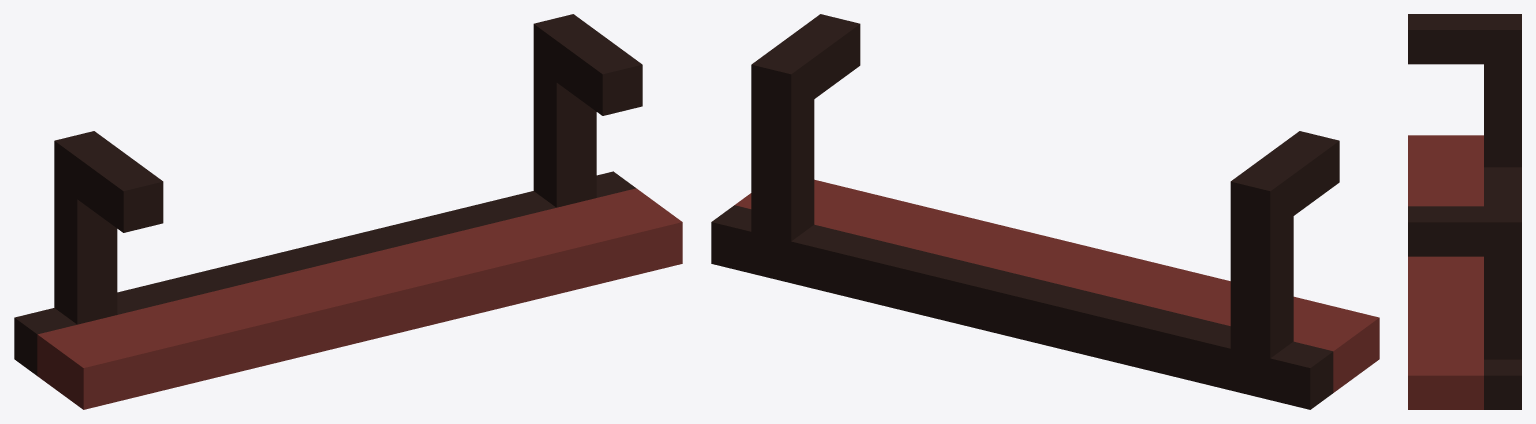
The model's file is bridge_b_segment.obj.
3 renders of one model, left to right at view 1: azimuth 30°, elevation 25°; view 2: azimuth 150°, elevation 25°; view 3: azimuth 270°, elevation 25°, orthographic. The views are drawn at different scales.
Size of the model in its own units: 1.5 by 0.5 by 0.3.
Materials: 1 (1 with a texture image).
